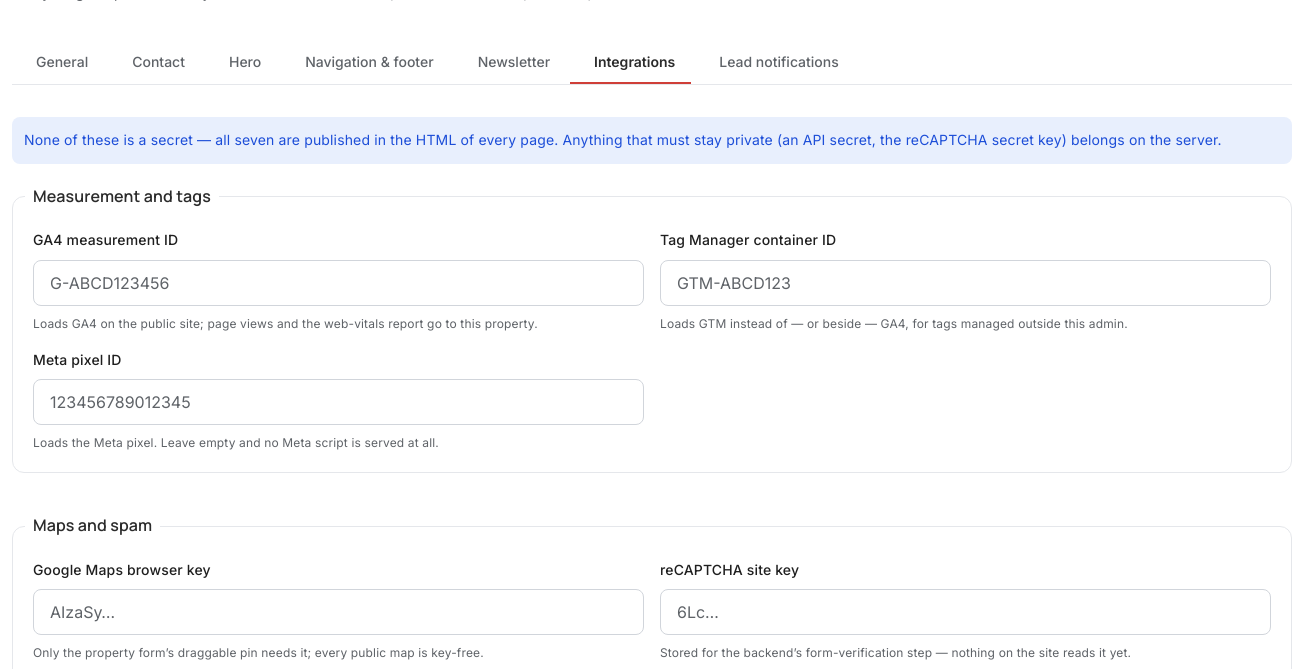
QA-64 › keeps the open panel in the address, and opens the panel an address names
The image size is (1304, 669).
Click the tab "Hero".
click(241, 62)  # box [205, 40, 277, 84]
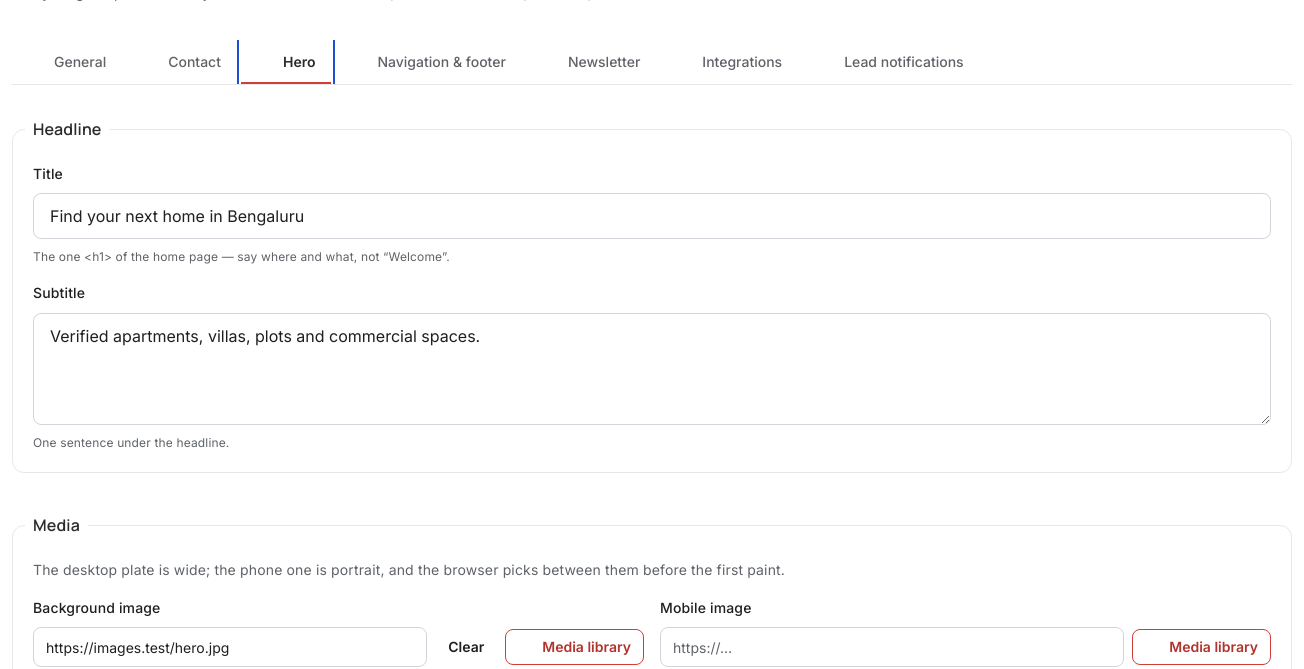
Click the tab "General".
click(67, 62)  # box [12, 40, 122, 84]
(page scrolled)
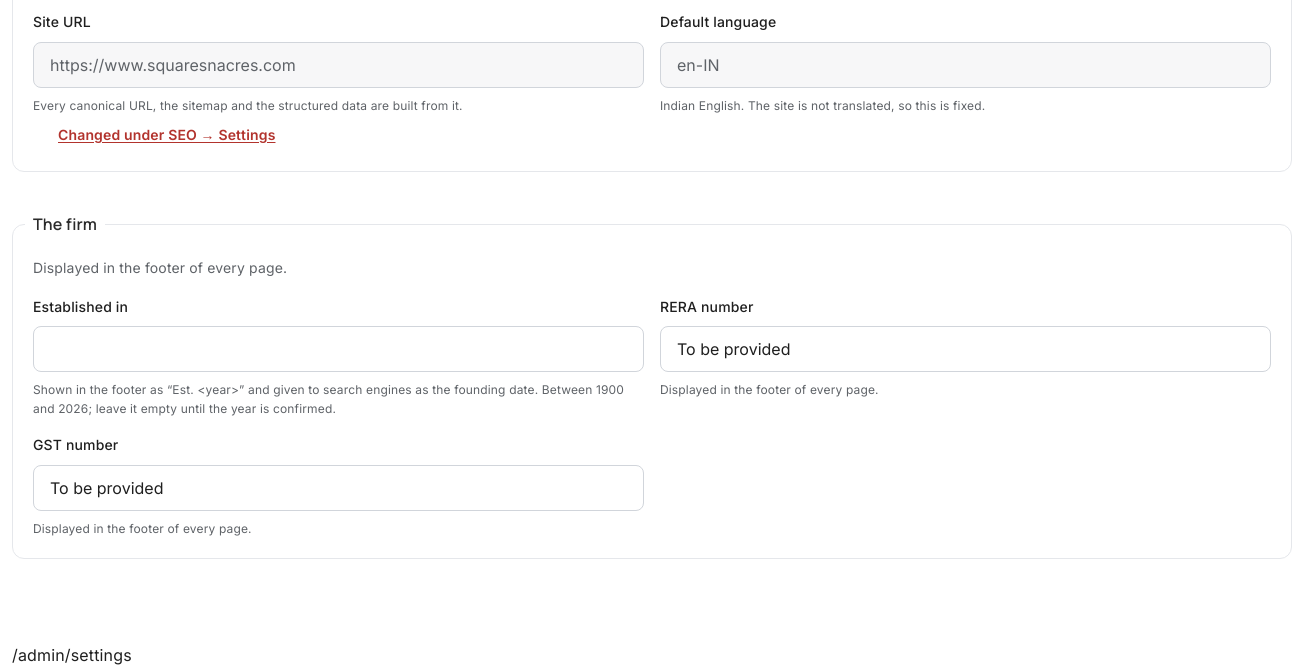
Check: the text with test id "location" reads "/admin/settings", box [12, 645, 132, 665]
